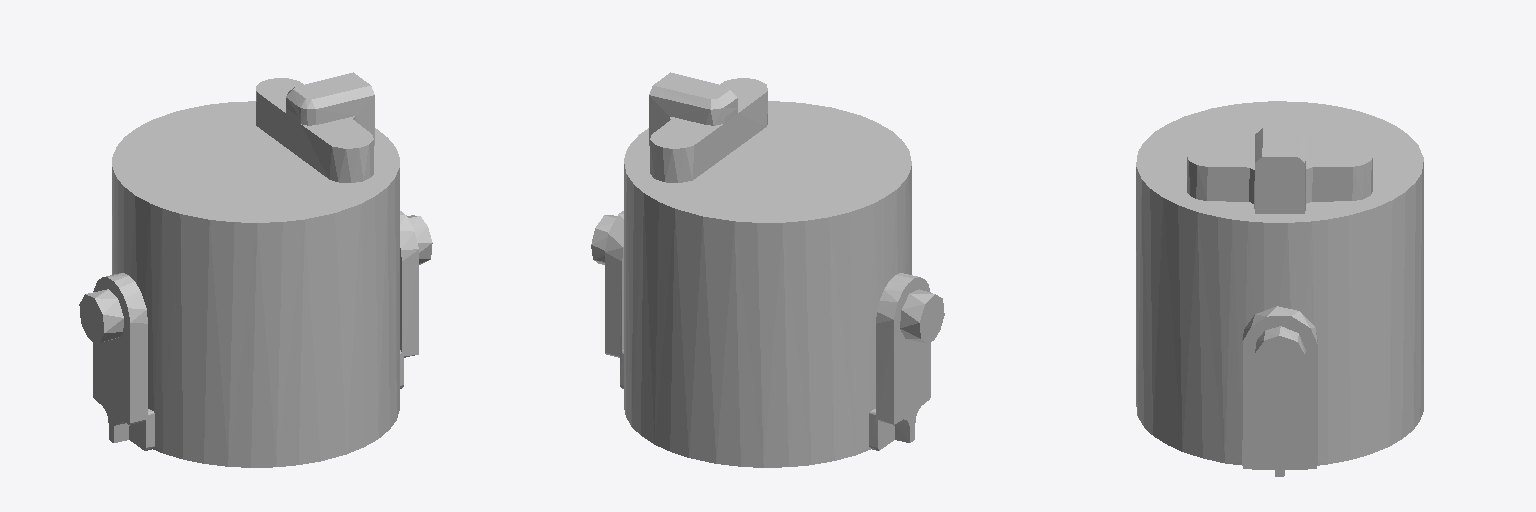
File: openarm_left_link6_collision_mesh.obj
3 renders of one model, left to right at view 1: azimuth 30°, elevation 25°; view 2: azimuth 150°, elevation 25°; view 3: azimuth 270°, elevation 25°, orthographic.
Size of the model in its own units: 0.075 by 0.066 by 0.057.